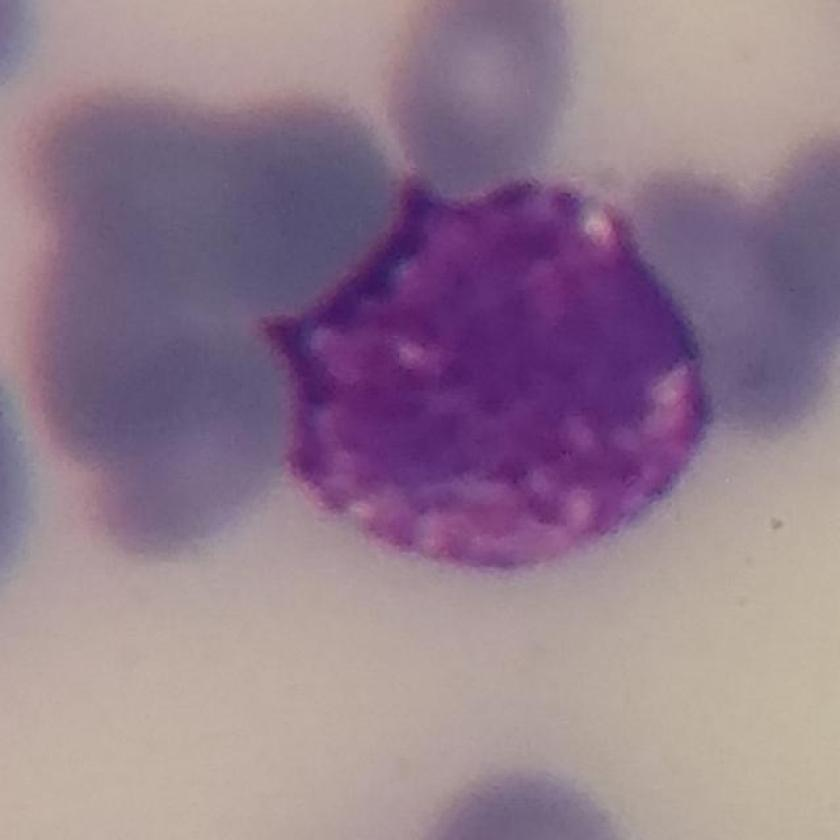basophil: (256, 148, 730, 590)
